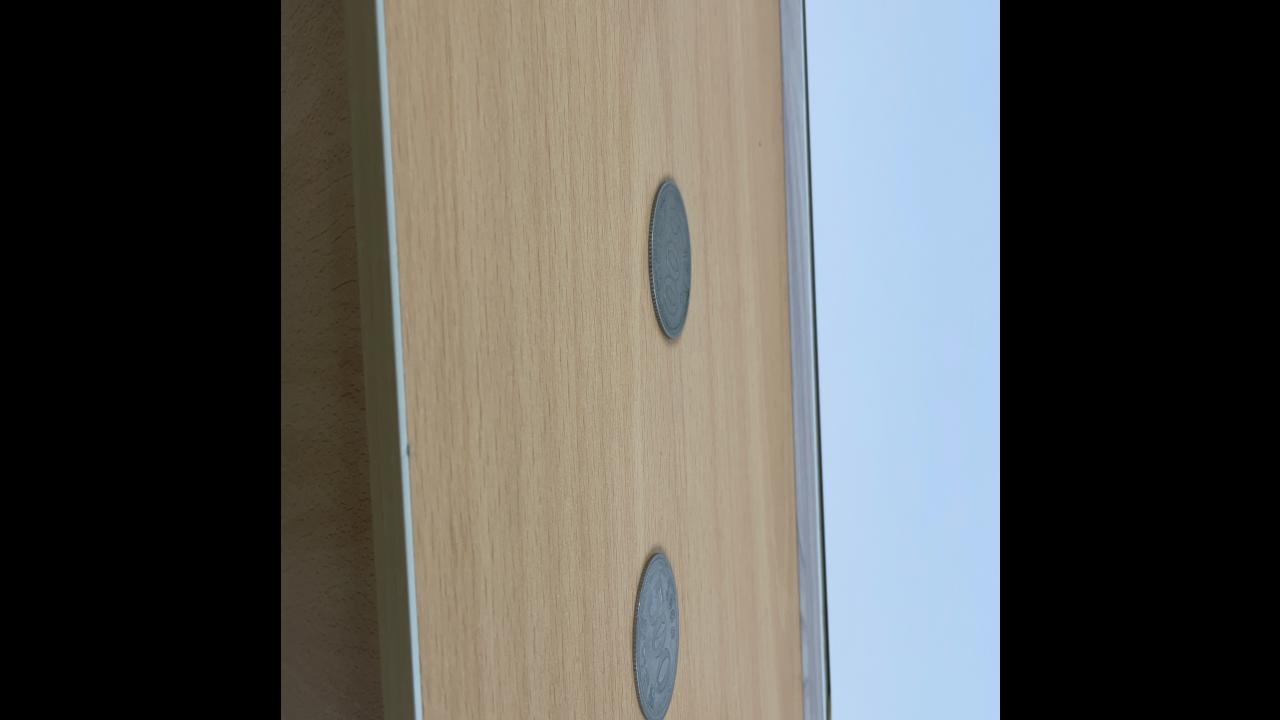coin: (630, 548, 682, 720), (646, 176, 694, 346)
